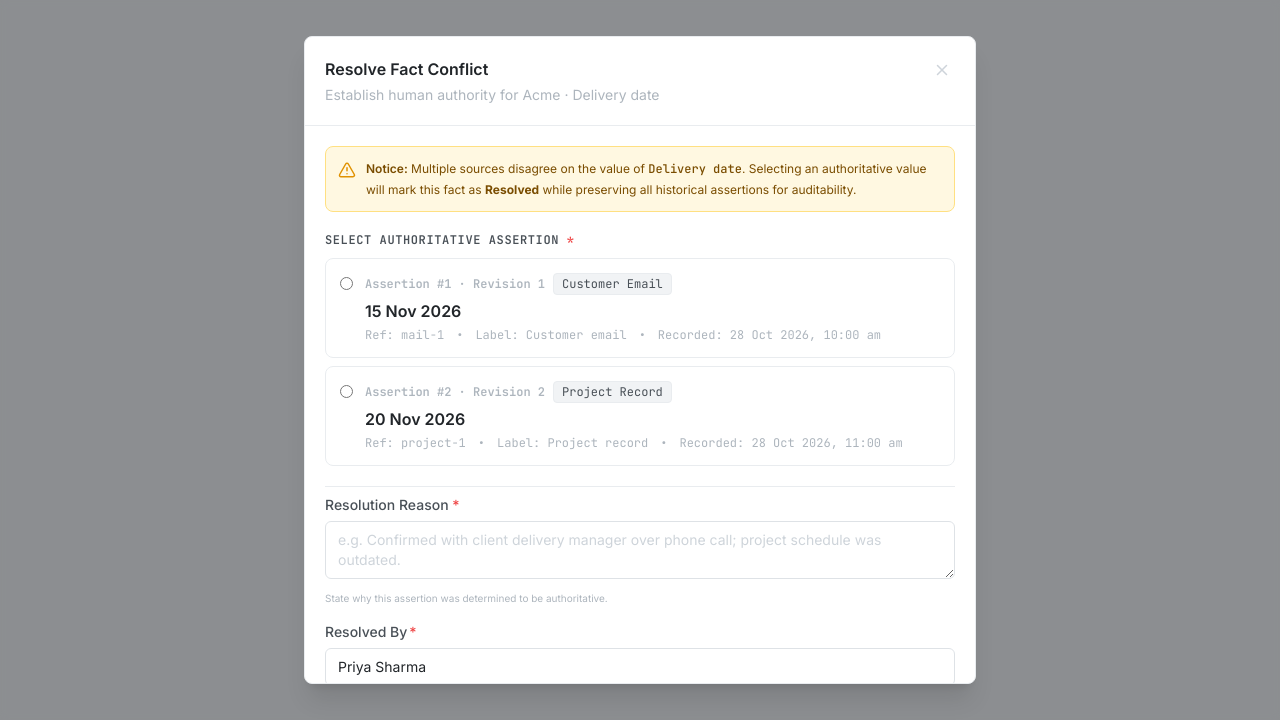
Scenario: Stage 3 UI integration › keeps resolution evidence visible when submission fails
The width and height of the screenshot is (1280, 720).
Step 1. Click the 1st radio button → (346, 284), box [340,277,353,290]
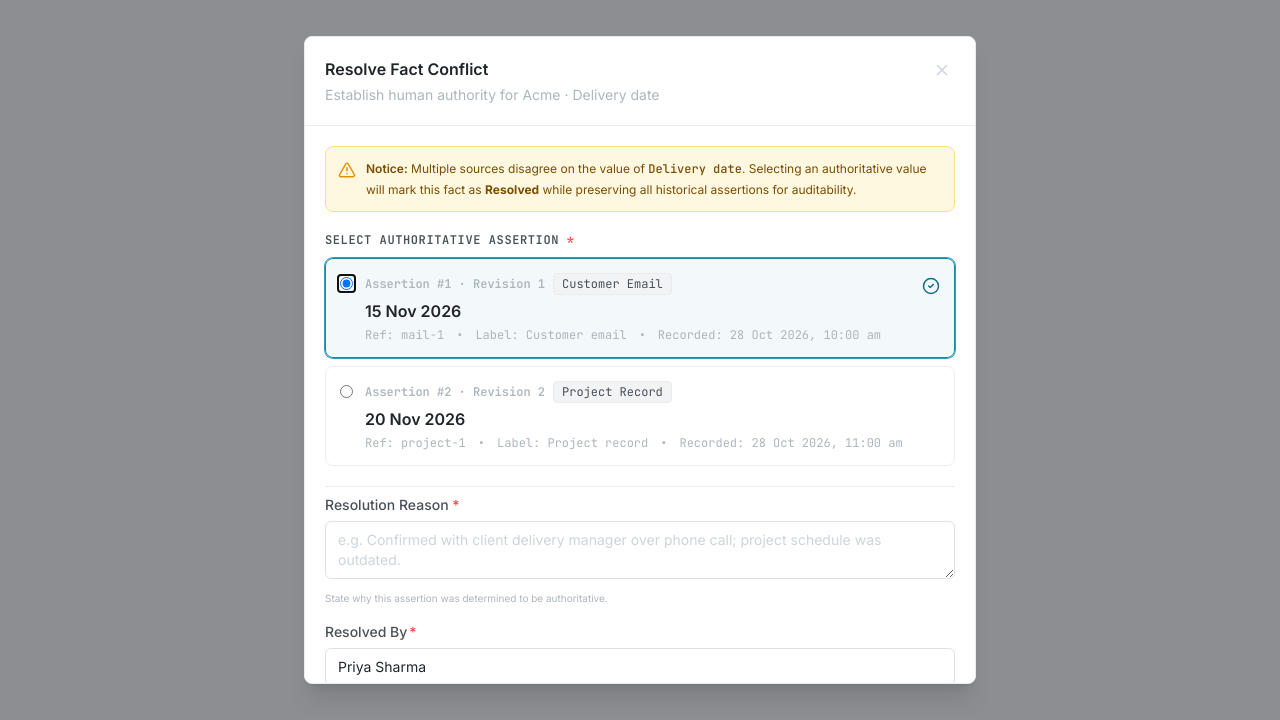
Step 2. Type "Verified" into the text box with placeholder "Confirmed with client delivery manager" → (640, 550), box [325,521,955,579]
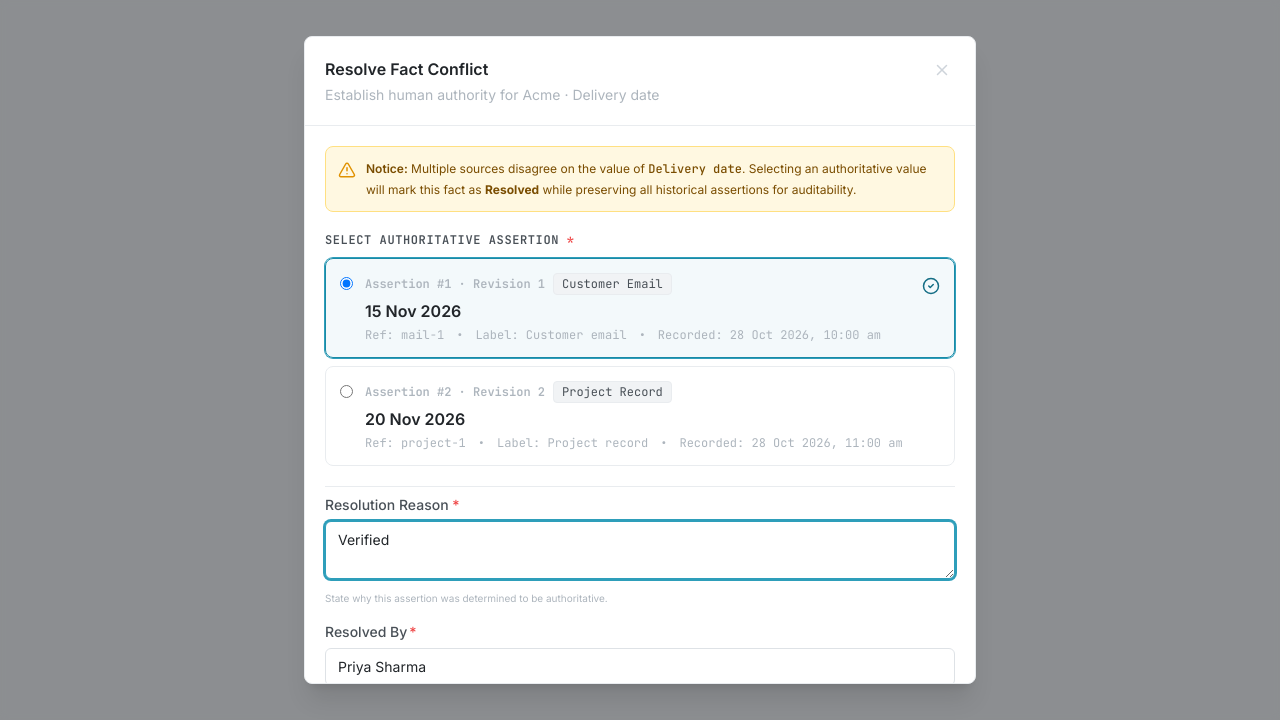
Step 3. Clear the field labelled "Resolved By*" → (640, 667), box [325,648,955,686]
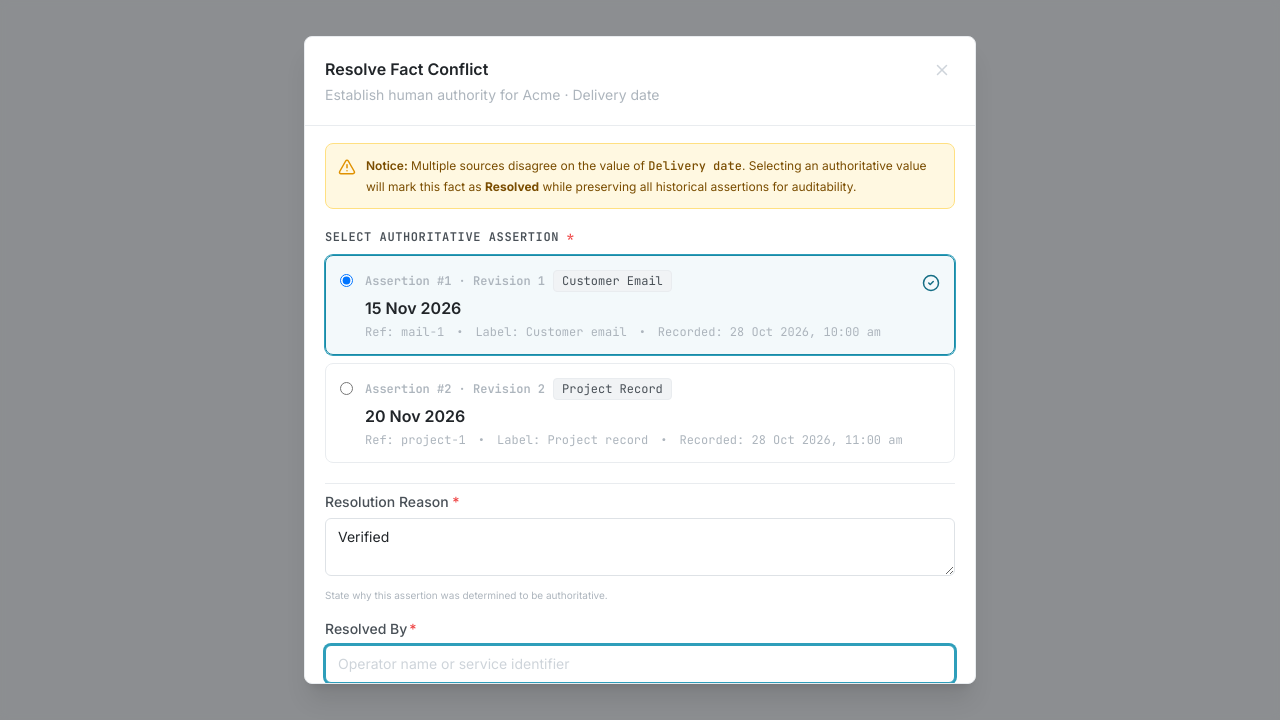
Step 4. Type "Operator" into the field labelled "Resolved By*" → (640, 664), box [325,645,955,683]
(page scrolled)
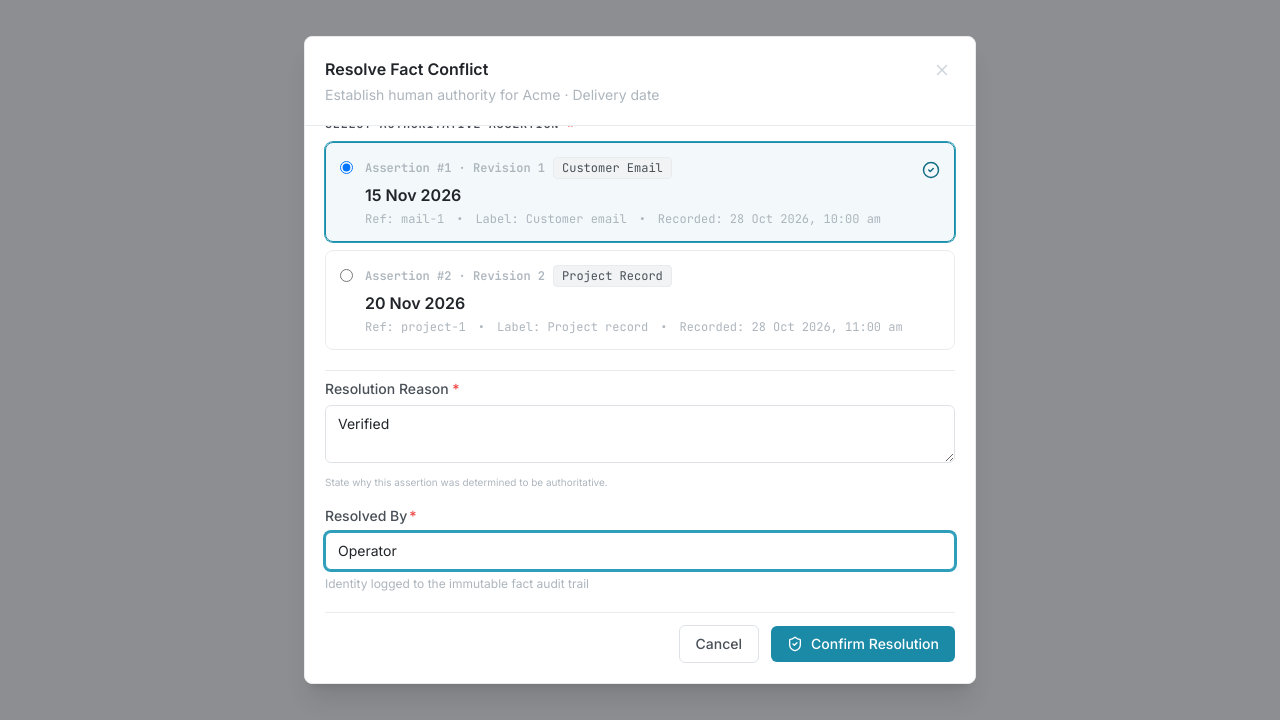
Step 5. Click the button "Confirm Resolution" → (863, 644), box [771,626,955,662]
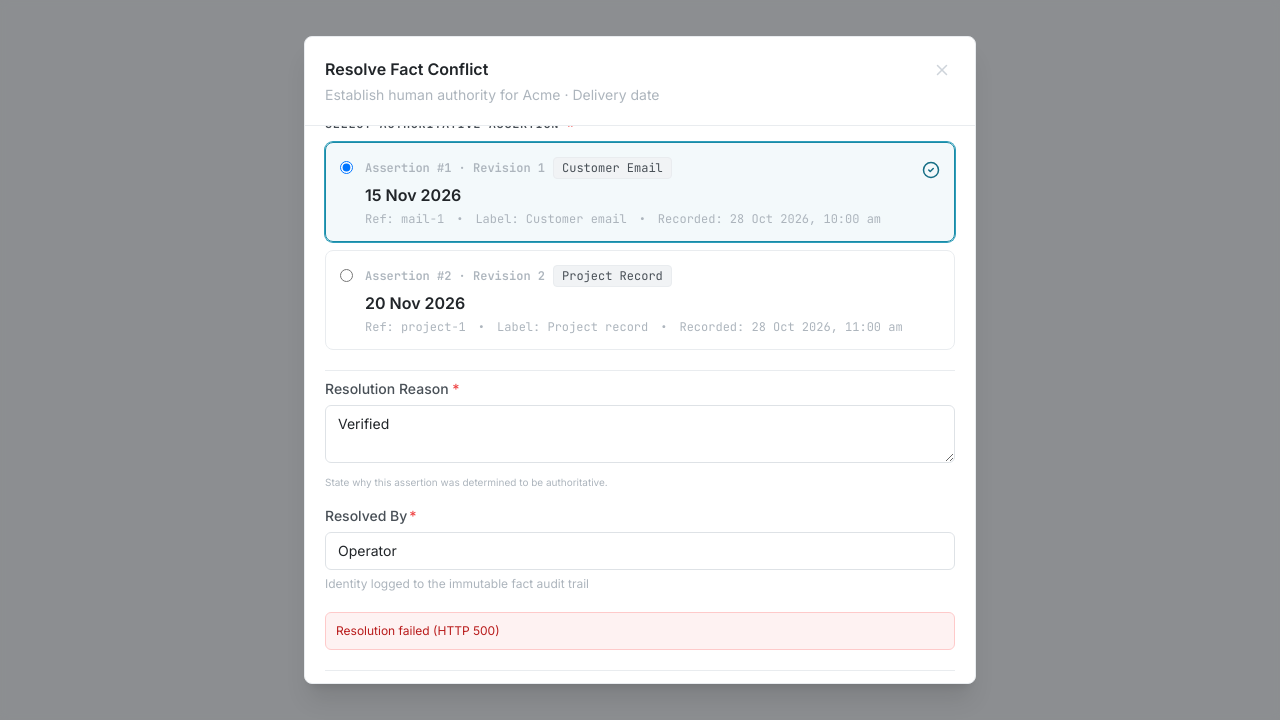
Expected: the text "15 Nov 2026" is shown, [365,185,461,205]
Result: the message shows "Resolution failed" at [336,623,500,638]
